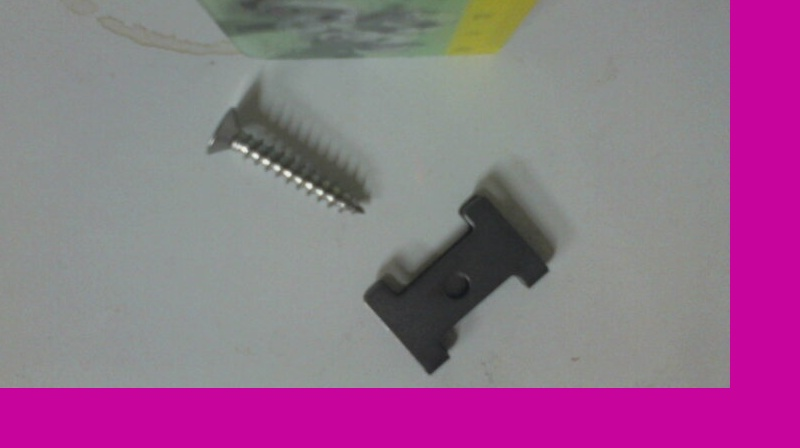O002: (357, 189, 550, 376)
S001: (198, 99, 376, 218)
